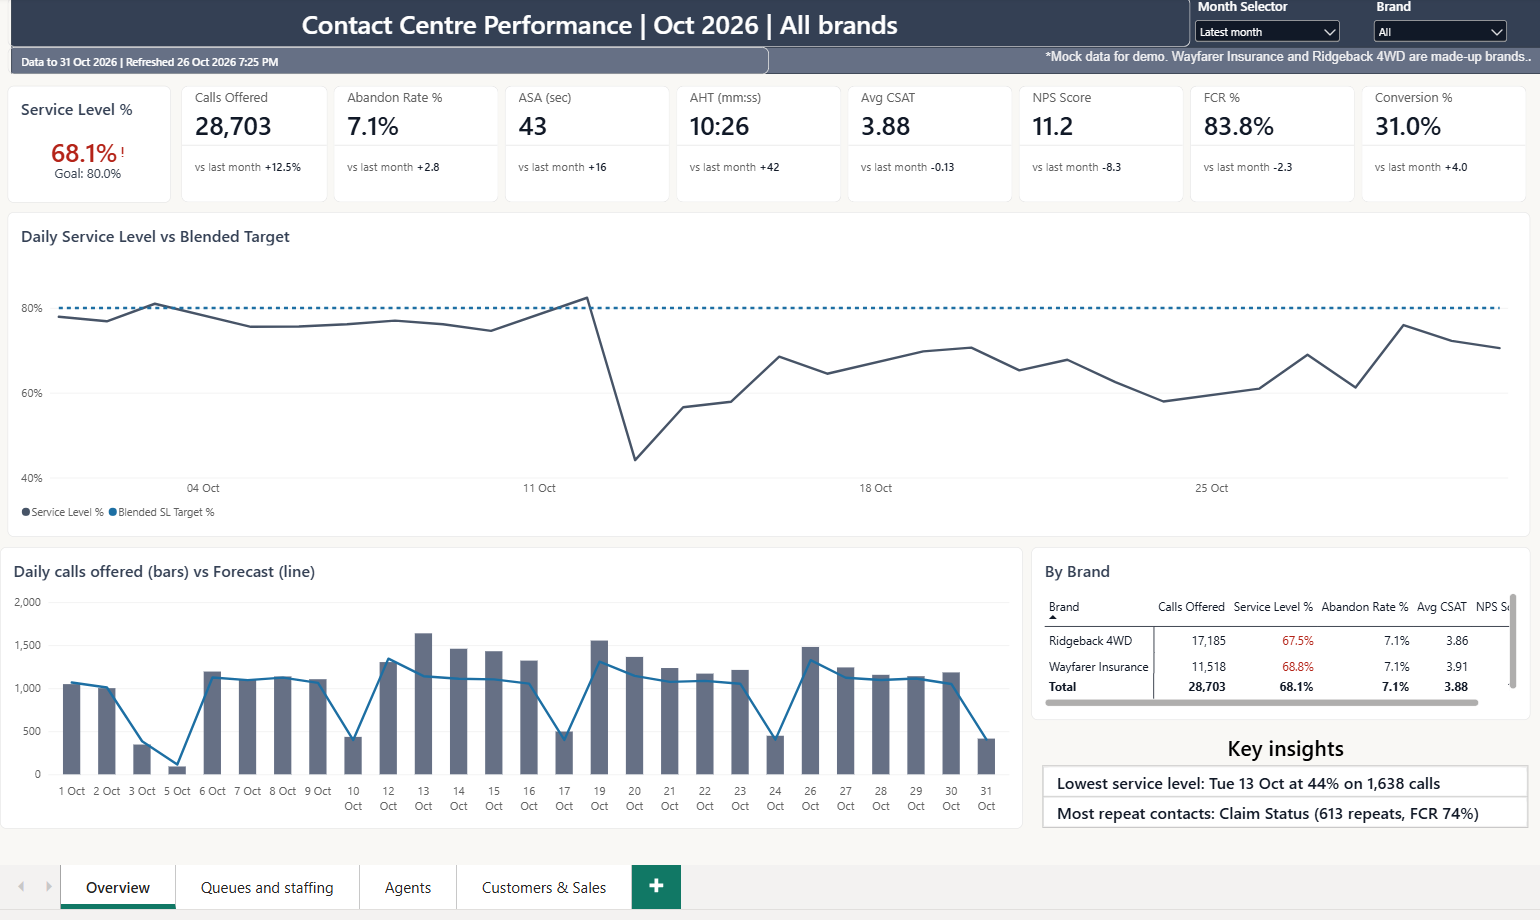

Layout of this report page (visuals, bound fields, positions):
{"tool":"powerbi","page":{"name":"Overview","canvas":[1920,1080],"ordinal":0},"visuals":[{"type":"shape","title":"Accent Bg","box":[13.4,62.5,1904.4,33.5],"z":0},{"type":"shape","title":"Header Bg","box":[13.4,0,1902.1,62.5],"z":1000},{"type":"cardVisual","fields":{"Data":["Calls.Abandon Rate %","Calls.ASA (sec)","Calls.AHT (mm:ss)","Surveys.Avg CSAT","Surveys.NPS Score","Interactions.FCR %","Interactions.Conversion %"]},"box":[394.7,110.7,1525.3,145.7],"z":2000},{"type":"lineClusteredColumnComboChart","title":"Daily calls offered (bars) vs Forecast (line)","fields":{"Category":["Date.Date"],"Y":["Calls.Calls Offered"],"Y2":["Forecast.Forecast Offered"]},"box":[0,683.8,1272.4,350.5],"z":3000},{"type":"lineChart","title":"Daily Service Level vs Blended Target","fields":{"Category":["Date.Date"],"Y":["Calls.Service Level %","Calls.Blended SL Target %"]},"box":[9.9,267.9,1893.7,404.4],"z":4000},{"type":"cardVisual","title":"Key insights","fields":{"Data":["Calls.Worst SL Day","Calls.Top Repeat Reason"]},"box":[1297.1,916.2,605,118],"z":5000},{"type":"cardVisual","fields":{"Data":["Calls.Calls Offered"]},"box":[225,110.7,182.6,145.7],"z":6000},{"type":"kpi","title":"Service Level %","fields":{"Goal":["Calls.Blended SL Target %"],"Indicator":["Calls.Service Level %"],"TrendLine":["Date.Reporting Month"]},"box":[9.2,110.7,202.9,145.7],"z":7000},{"type":"pivotTable","title":"\tBy Brand","fields":{"Rows":["Queue.Brand"],"Values":["Calls.Calls Offered","Calls.Service Level %","Calls.Abandon Rate %","Surveys.Avg CSAT","Surveys.NPS Score"]},"box":[1281.9,683.8,621,215.2],"z":8000},{"type":"cardVisual","fields":{"Data":["Calls.Report Title"]},"box":[8.9,0,1471.8,62.7],"z":9000},{"type":"slicer","fields":{"Values":["Date.Month Selector"]},"box":[1481,0,190,62.7],"z":10000},{"type":"slicer","fields":{"Values":["Queue.Brand"]},"box":[1704.2,0,175.2,62.7],"z":11000},{"type":"cardVisual","fields":{"Data":["Calls.Data As At"]},"box":[10.1,62.3,947.3,34.2],"z":12000},{"type":"textbox","box":[961.3,62.3,943.2,34.2],"z":12001}]}

Visuals, with their boxes on the page's 1920x1080 design canvas (x1, y1, x2, y2). These are canvas units, not pixel positions in the 1540x920 screenshot, which may show the page scaled, cropped or inside an application window:
"Accent Bg" shape: select_region(13, 62, 1918, 96)
"Header Bg" shape: select_region(13, 0, 1916, 62)
cardVisual - Calls.Abandon Rate % x Calls.ASA (sec): select_region(395, 111, 1920, 256)
"Daily calls offered (bars) vs Forecast (line)" lineClusteredColumnComboChart: select_region(0, 684, 1272, 1034)
"Daily Service Level vs Blended Target" lineChart: select_region(10, 268, 1904, 672)
"Key insights" cardVisual: select_region(1297, 916, 1902, 1034)
cardVisual - Calls.Calls Offered: select_region(225, 111, 408, 256)
"Service Level %" kpi: select_region(9, 111, 212, 256)
"	By Brand" pivotTable: select_region(1282, 684, 1903, 899)
cardVisual - Calls.Report Title: select_region(9, 0, 1481, 63)
slicer - Date.Month Selector: select_region(1481, 0, 1671, 63)
slicer - Queue.Brand: select_region(1704, 0, 1879, 63)
cardVisual - Calls.Data As At: select_region(10, 62, 957, 96)
textbox: select_region(961, 62, 1904, 96)
